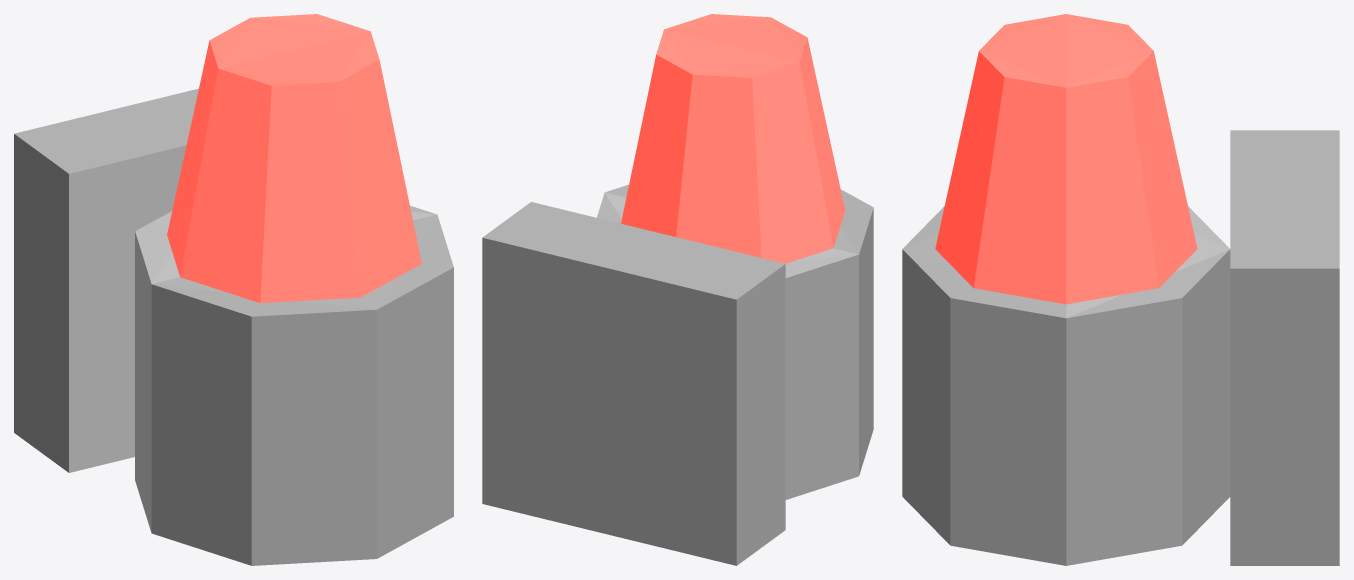
The model's file is Lamp_Alarm_Red.fbx.
3 renders of one model, left to right at view 1: azimuth 30°, elevation 25°; view 2: azimuth 150°, elevation 25°; view 3: azimuth 270°, elevation 25°, orthographic. The views are drawn at different scales.
Parts seen in each view (by area): view 1: Lamp_Alarm_Red; view 2: Lamp_Alarm_Red; view 3: Lamp_Alarm_Red.
Part boxes in pixels (left/top/right/bottom): Lamp_Alarm_Red: left=14, top=14, right=453, bottom=565; Lamp_Alarm_Red: left=482, top=14, right=873, bottom=565; Lamp_Alarm_Red: left=902, top=14, right=1339, bottom=565.
Size of the model in its own units: 0.3 by 0.45 by 0.4.
